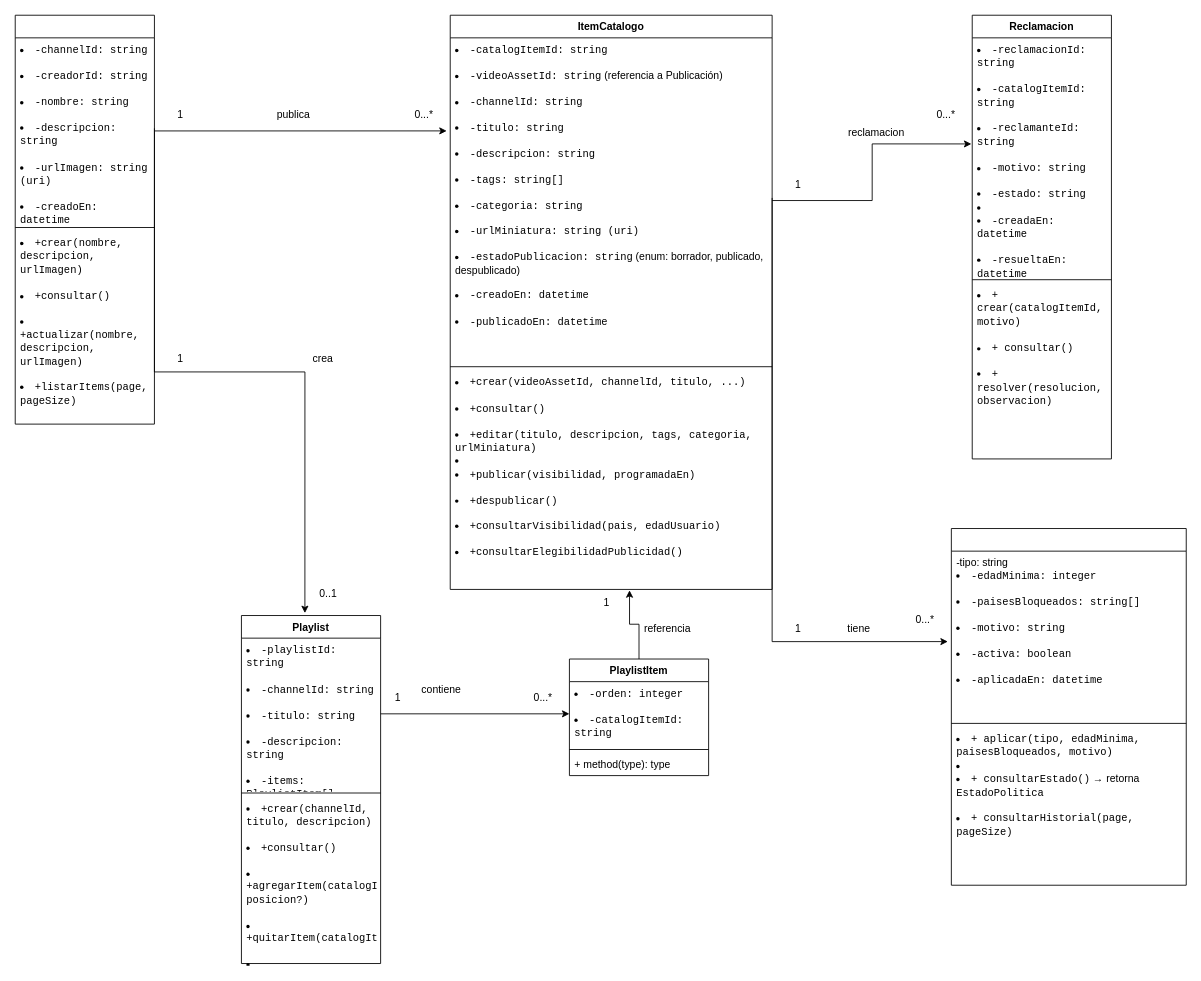
Some shapes in this 1201 by 981 pixel diagram are drawn without their labels. The box of each missing label's shape, as (x1, y1, x2, y2) in pixels:
Canal: (14, 14, 154, 424)
RestriccionPolitica: (950, 528, 1186, 885)
